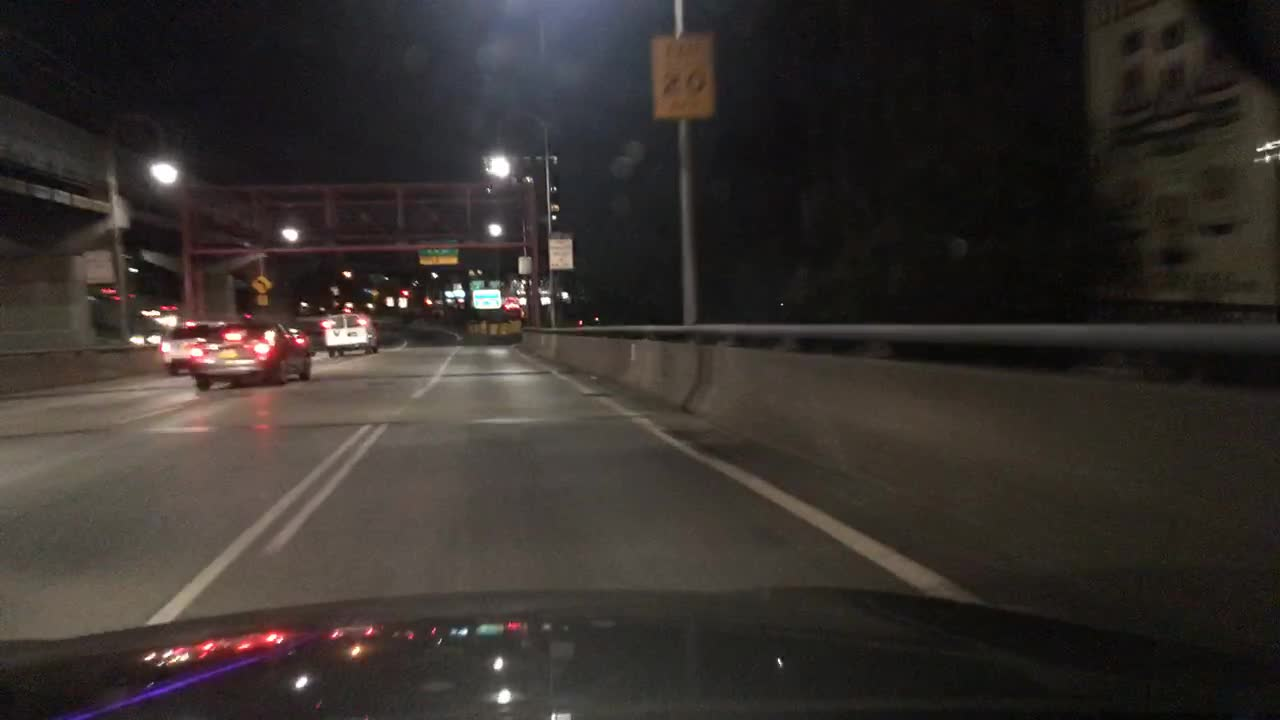car: (190, 315, 310, 387), (158, 319, 227, 377), (321, 312, 380, 358), (127, 325, 160, 347)
traffic light: (399, 287, 410, 297)
traffic sign: (651, 28, 714, 120), (550, 228, 576, 271), (414, 242, 461, 264), (471, 288, 501, 310), (519, 252, 532, 277), (252, 277, 269, 292), (470, 277, 484, 289), (486, 280, 507, 288), (257, 293, 267, 307)
